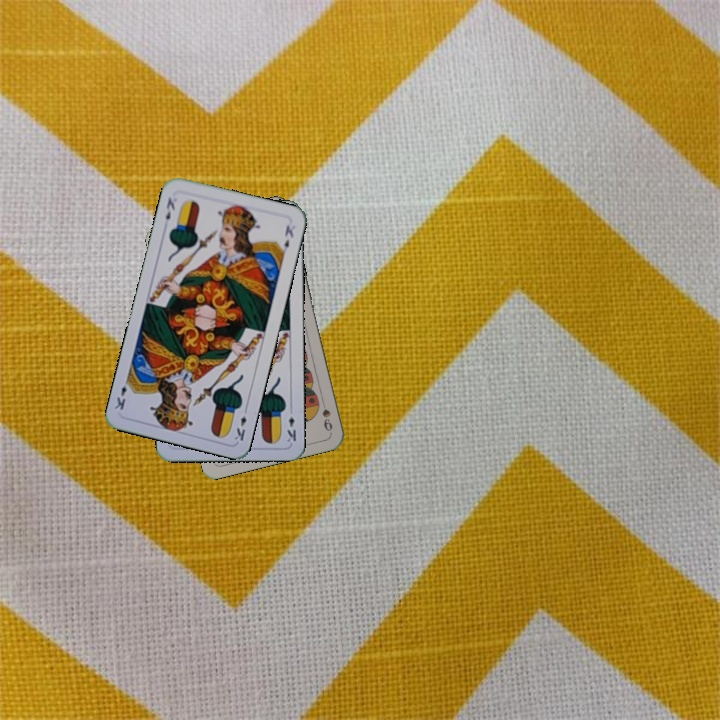EK: (230, 403, 250, 443), (283, 404, 299, 444), (161, 193, 178, 222)
S9: (317, 394, 335, 434)
